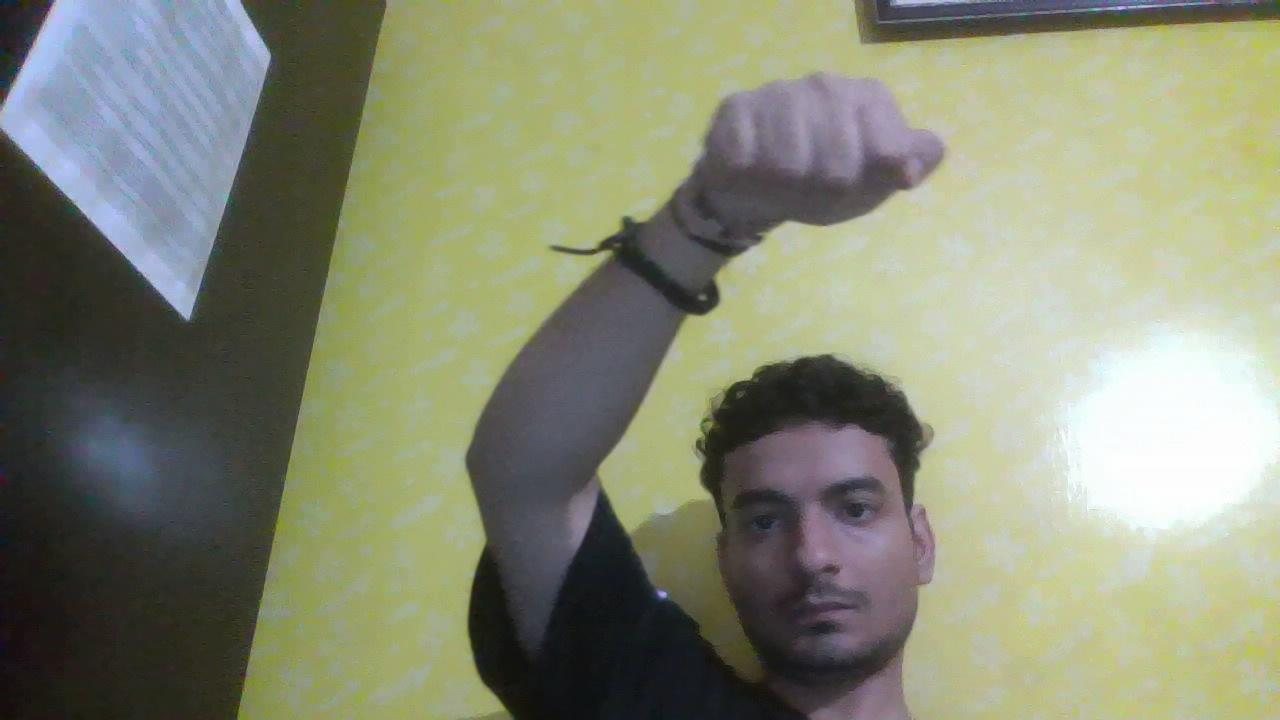Yes: (681, 32, 986, 251)
